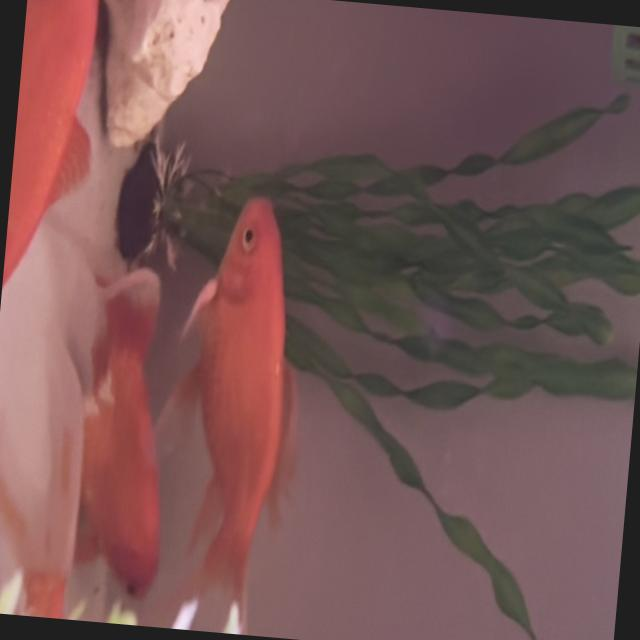fish: (147, 187, 316, 635), (0, 263, 181, 626), (0, 0, 109, 486)
